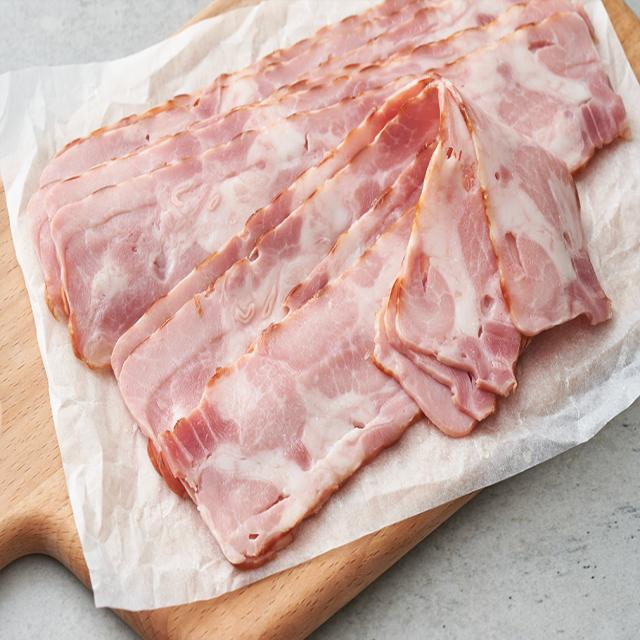bacon: (7, 0, 640, 581)
